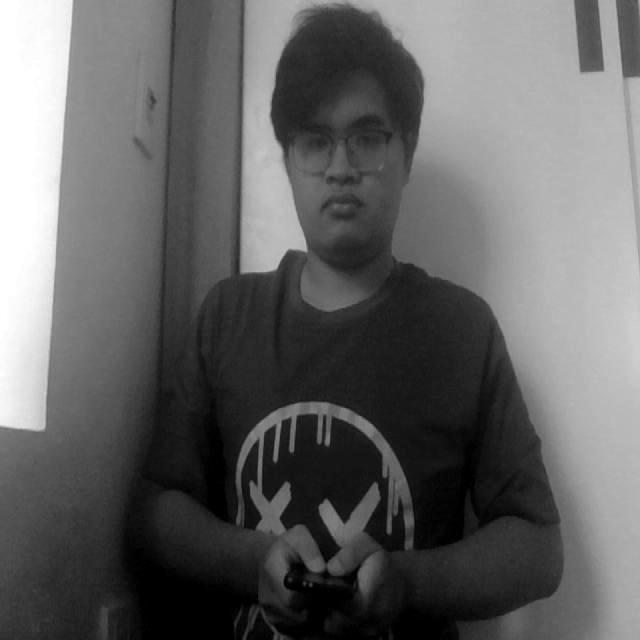phone: (280, 529, 368, 624)
